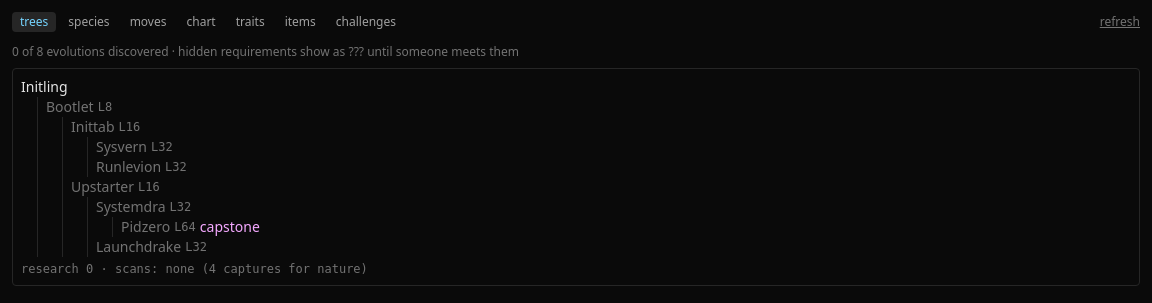
Test case: CodexPanel › lists every type challenge as plain pre-wrapped text, never as HTML
Click the button with test id "codex-challenges".
click(366, 22)  # box [328,12,404,32]
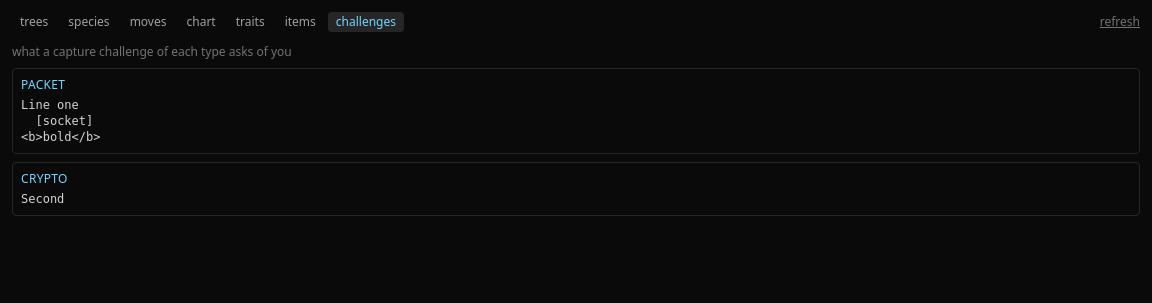
Result: the element with test id "challenge-crypto" is shown at [12,162,1140,216]
